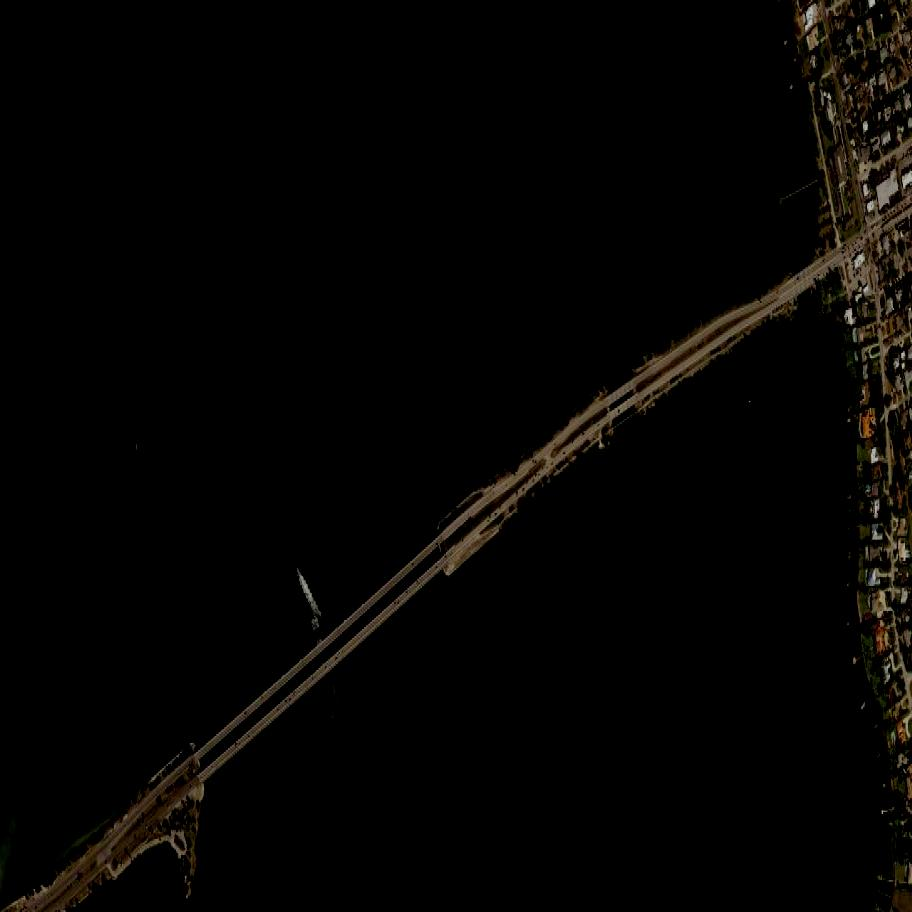ship: (294, 567, 323, 617)
